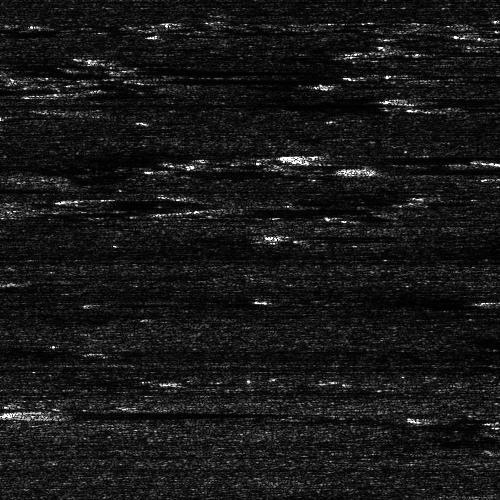object: (233, 147, 390, 164), (141, 204, 266, 215), (433, 289, 500, 308), (0, 407, 77, 418), (324, 163, 397, 174), (92, 63, 175, 72), (0, 205, 61, 216), (367, 92, 430, 101), (118, 75, 191, 82), (37, 90, 110, 95), (227, 231, 300, 236), (356, 496, 409, 500)
shadow: (312, 147, 500, 164), (31, 407, 241, 418), (134, 63, 314, 72), (361, 163, 500, 174), (204, 204, 340, 215), (155, 75, 334, 82), (9, 205, 93, 216), (399, 92, 499, 101), (263, 231, 355, 236), (74, 90, 162, 95), (383, 496, 431, 500)
